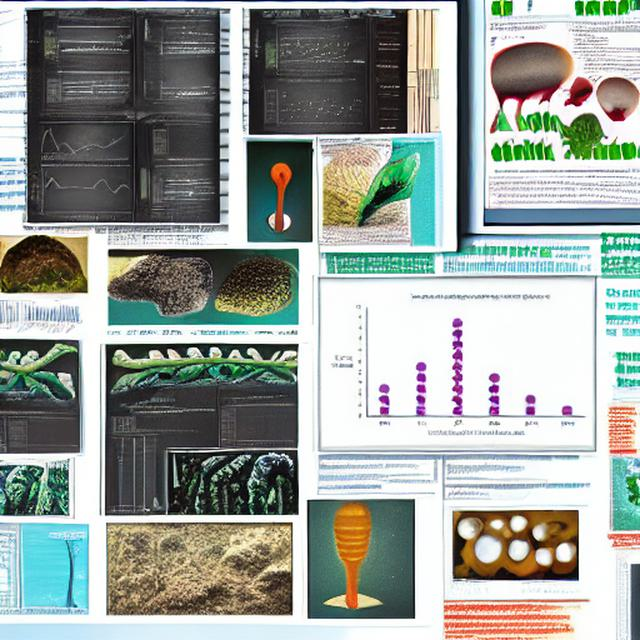Graph: (325, 288, 593, 443), (30, 162, 134, 223), (262, 76, 362, 135), (220, 402, 299, 448), (16, 296, 85, 334), (19, 416, 79, 452)
